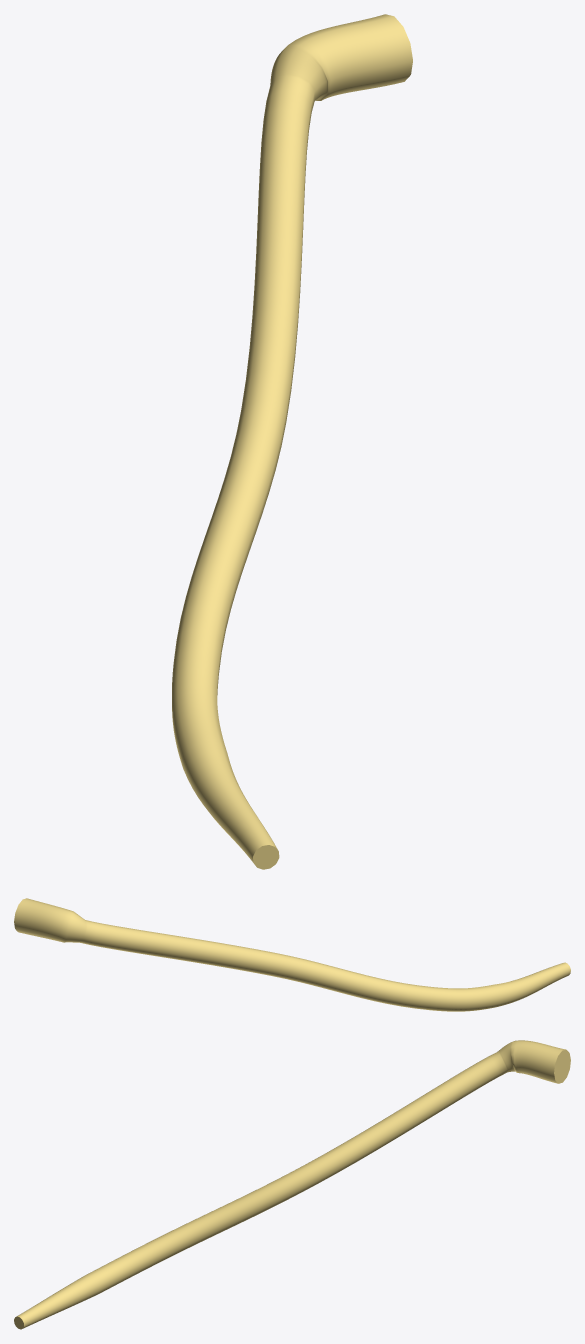
The picture shows the model from 3 angles, top to bottom: view 1: azimuth 30°, elevation 25°; view 2: azimuth 150°, elevation 25°; view 3: azimuth 330°, elevation 25°; orthographic projection. The views are drawn at different scales.
Visible parts, largest first — view 1: ZA_085615d1342a1c8d; view 2: ZA_085615d1342a1c8d; view 3: ZA_085615d1342a1c8d.
Part boxes in pixels (x1,y1,x2,y2): ZA_085615d1342a1c8d: [172, 14, 412, 869]; ZA_085615d1342a1c8d: [14, 898, 570, 1011]; ZA_085615d1342a1c8d: [14, 1040, 570, 1329].
Size of the model in its own units: 0.0305 by 0.0167 by 0.0425.
